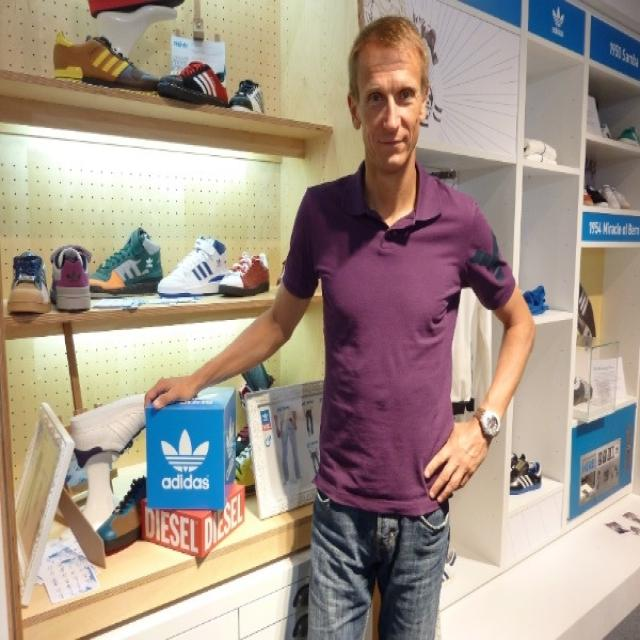adidas: (157, 424, 218, 502), (547, 5, 571, 41)
